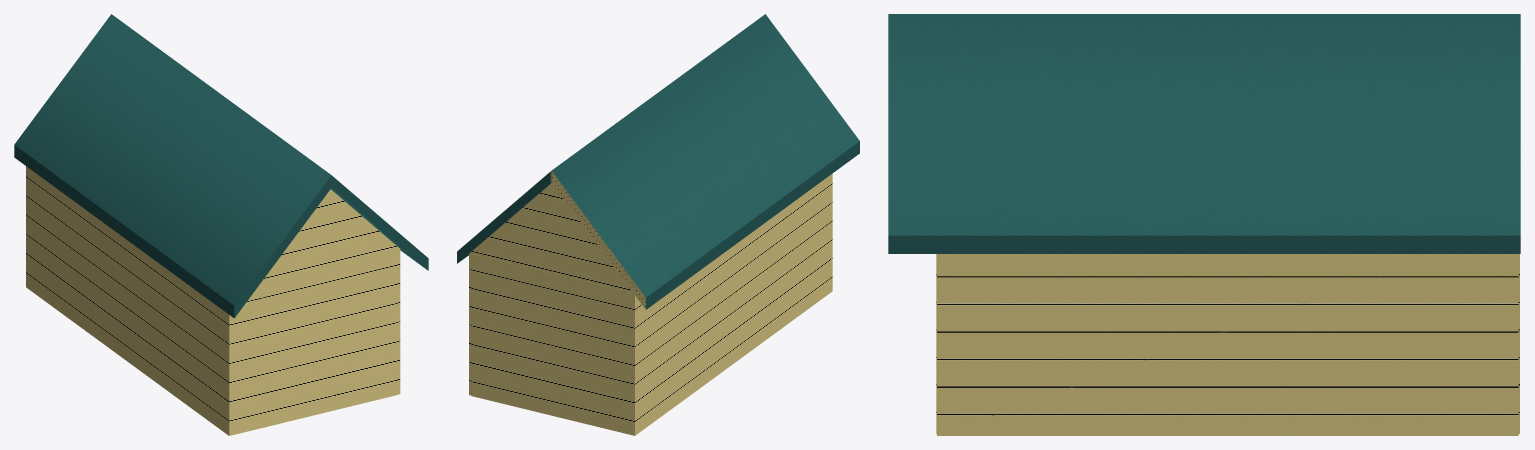
The model's file is casitaarribader.obj.
The picture shows the model from 3 angles, left to right: view 1: azimuth 30°, elevation 25°; view 2: azimuth 150°, elevation 25°; view 3: azimuth 270°, elevation 25°; orthographic projection. The views are drawn at different scales.
Visible parts, largest first — view 1: pasted__group34_pasted__pasted__pCube13; view 2: pasted__group34_pasted__pasted__pCube13; view 3: pasted__group34_pasted__pasted__pCube13.
Boxes of the visible parts, bbox=[...] form: pasted__group34_pasted__pasted__pCube13: bbox=[14, 14, 428, 435]; pasted__group34_pasted__pasted__pCube13: bbox=[457, 14, 859, 435]; pasted__group34_pasted__pasted__pCube13: bbox=[888, 14, 1520, 435].
Size of the model in its own units: 1.76 by 2.18 by 3.45.
1 material, 1 textured.
